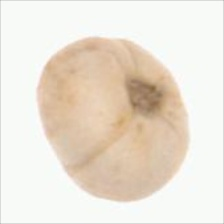L4: (36, 37, 189, 202)
